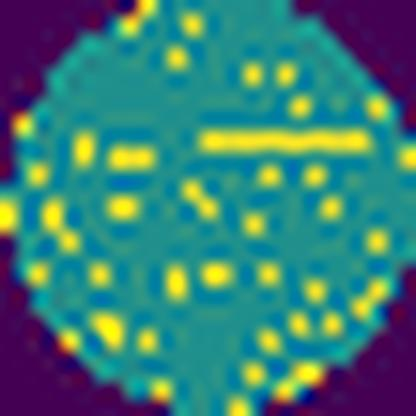Scratch: (193, 122, 378, 159)
